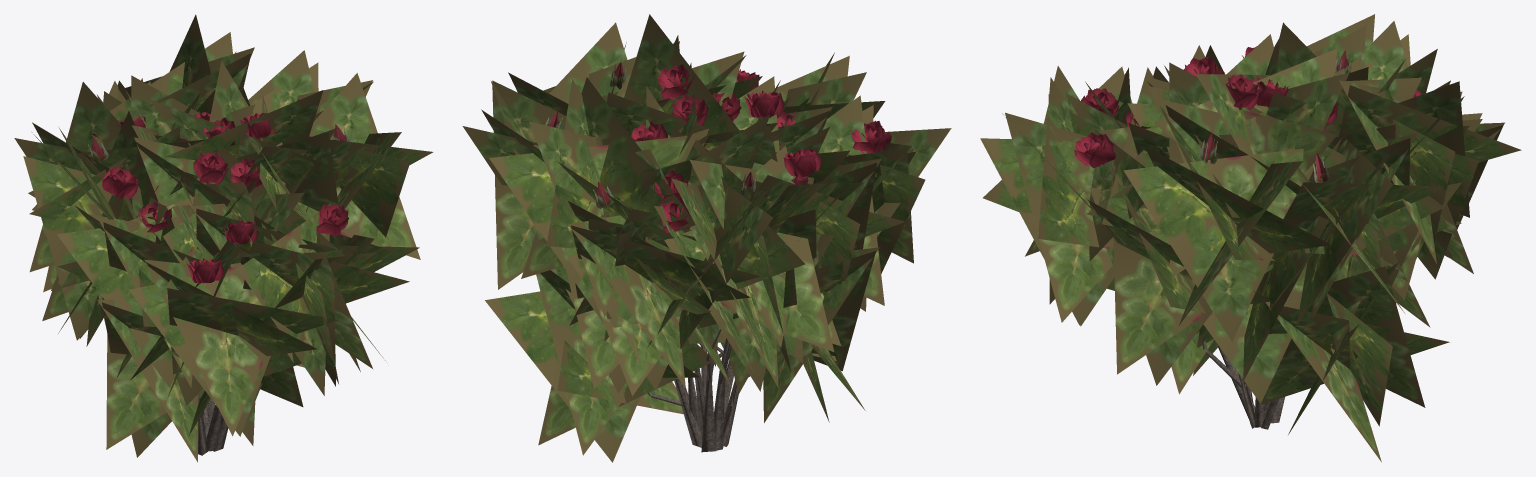
The model's file is Rosa_Grandiflora_Spring_Young.glb.
3 views of the same model, side by side, from view 1: azimuth 30°, elevation 25°; view 2: azimuth 150°, elevation 25°; view 3: azimuth 270°, elevation 25° (orthographic). The views are drawn at different scales.
Parts seen in each view (by area): view 1: Rosa_Grandiflora_Spring_Young__LOD3; view 2: Rosa_Grandiflora_Spring_Young__LOD3; view 3: Rosa_Grandiflora_Spring_Young__LOD3.
Boxes of the visible parts, x1,y1,x2,y2 form: Rosa_Grandiflora_Spring_Young__LOD3: (14, 14, 433, 462); Rosa_Grandiflora_Spring_Young__LOD3: (462, 14, 951, 462); Rosa_Grandiflora_Spring_Young__LOD3: (980, 14, 1521, 462).
Size of the model in its own units: 0.9795 by 0.9348 by 1.16.
Materials: 3 (3 with a texture image).
